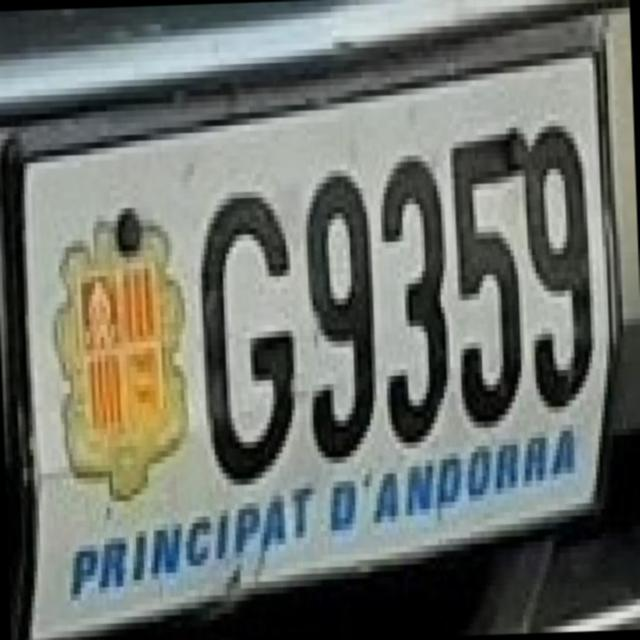3: (363, 130, 456, 450)
5: (434, 109, 530, 429)
9: (282, 150, 382, 470), (504, 94, 600, 414)
G: (176, 172, 305, 492)
